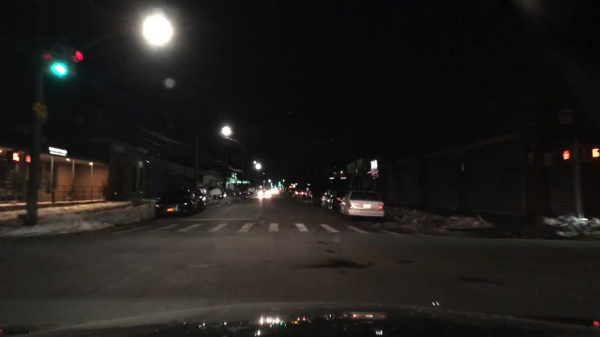car: (339, 190, 386, 220), (154, 189, 198, 217), (189, 188, 206, 212), (329, 191, 345, 211), (319, 191, 330, 209), (211, 188, 224, 201), (225, 189, 237, 197), (258, 191, 270, 197), (300, 193, 310, 198), (242, 190, 250, 196), (234, 190, 242, 196), (247, 188, 256, 193), (285, 190, 294, 195), (256, 184, 263, 190), (276, 189, 284, 192)
traffic light: (68, 48, 84, 79), (40, 46, 52, 79), (53, 49, 66, 78), (6, 150, 22, 162), (562, 148, 572, 162), (589, 147, 599, 160)
traffic sign: (31, 101, 48, 121)
